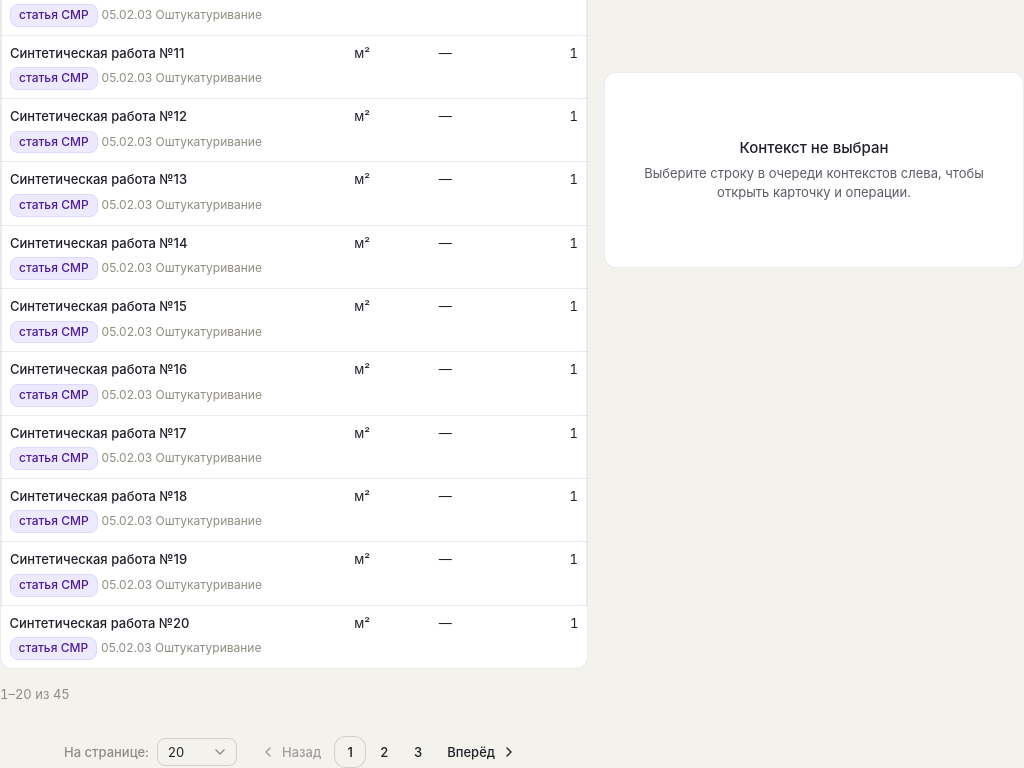
ContextsTab — фильтр «Семья» › поиск по названию («е» вместо «ё») находит семью; выбор уходит в запрос и возвращает на первую страницу
(page scrolled)
Click the button with aria-label "Следующая страница" at [482, 752], box [447, 744, 517, 760]
(page scrolled)
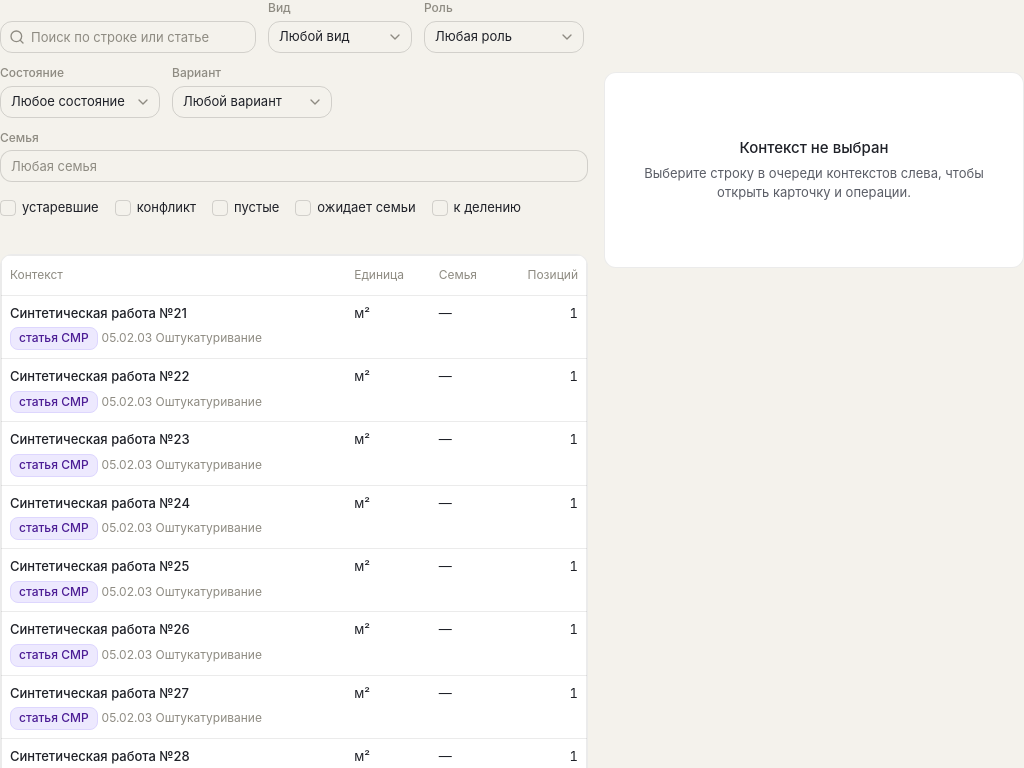
Click the button "Любая семья" at [54, 166], box [0, 150, 588, 182]
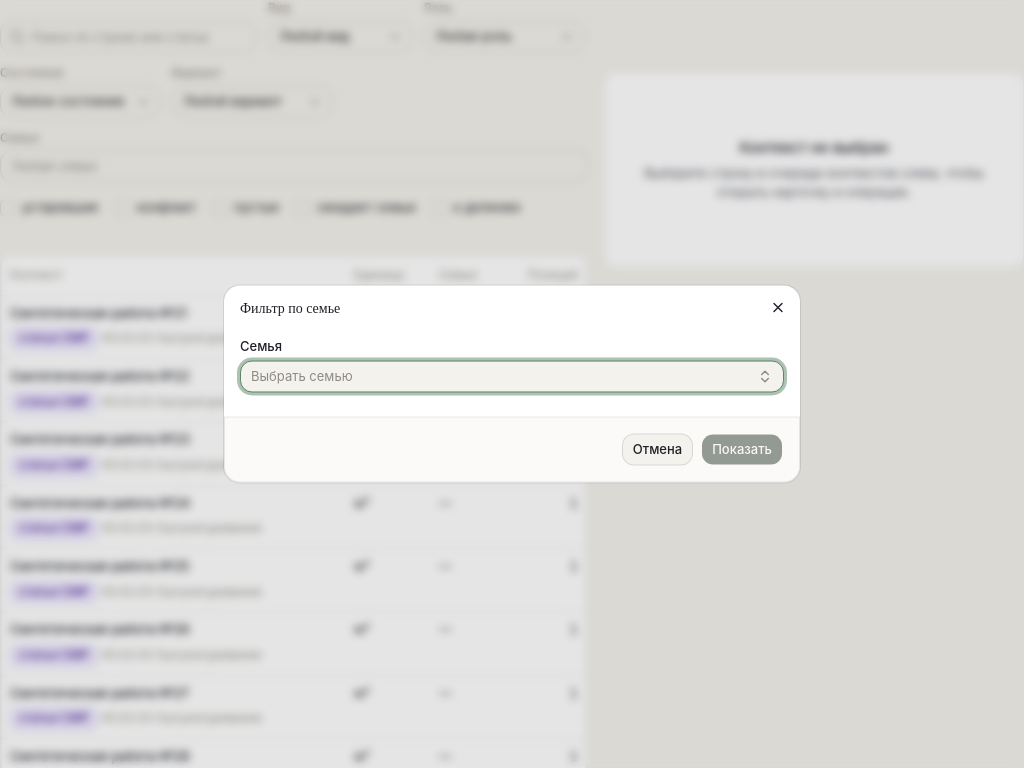
Click the dropdown named "Семья" at [302, 376], box [240, 360, 784, 392]
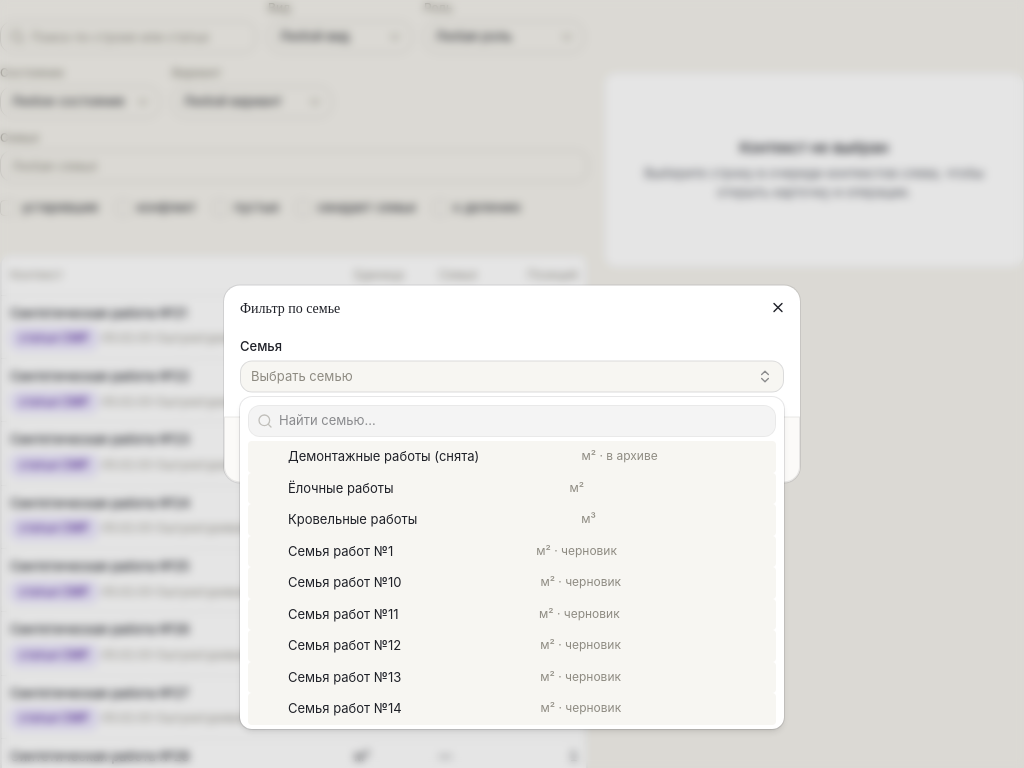
Type "елочные" into the dropdown with placeholder "Найти семью…" at [524, 421], box [273, 411, 775, 431]
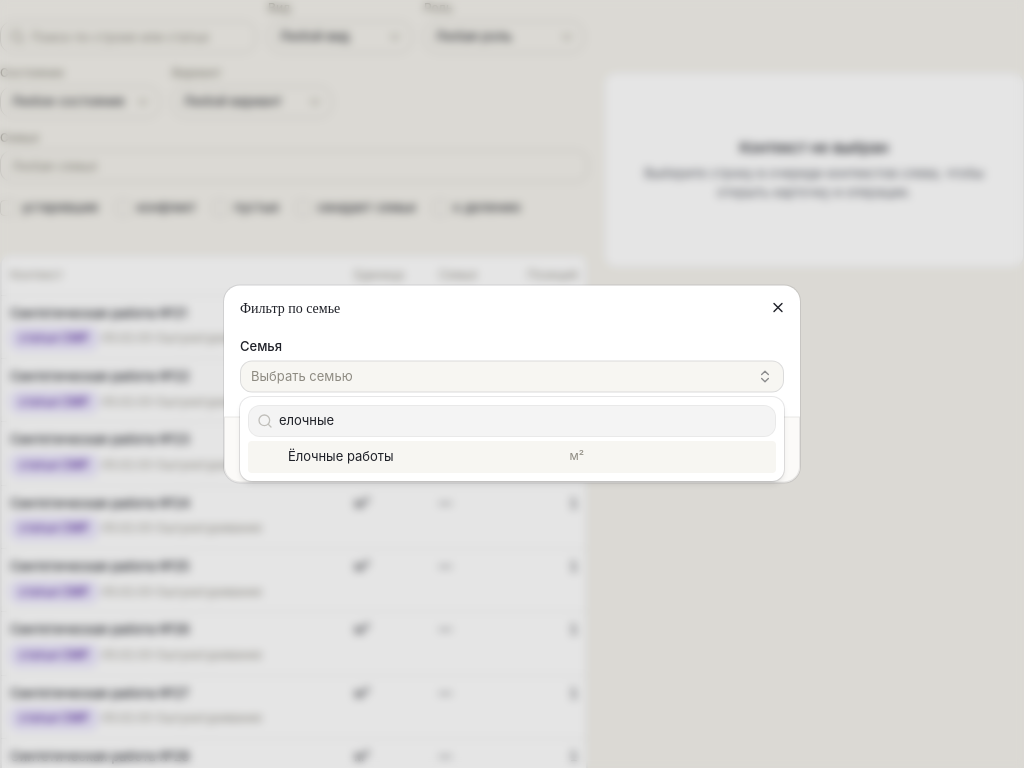
Expected: the option "Кровельные работы" is gone
Click the option "Ёлочные работы м²" at [341, 456], box [248, 441, 776, 472]
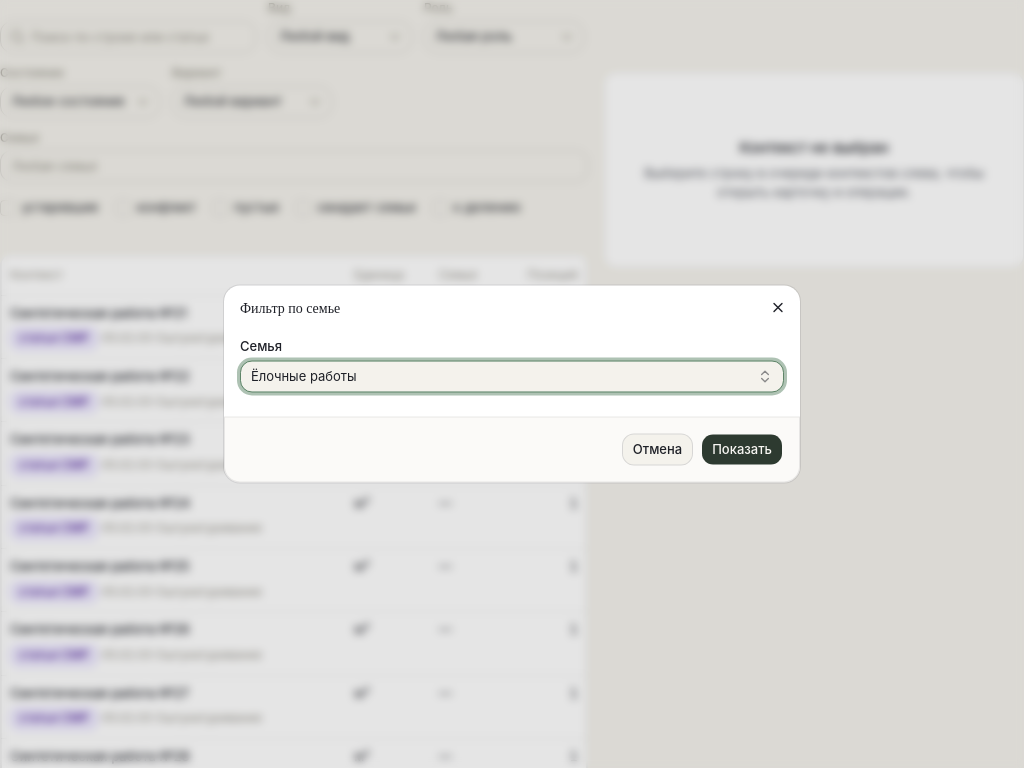
Click the button "Показать" at [742, 450], box [701, 434, 783, 466]
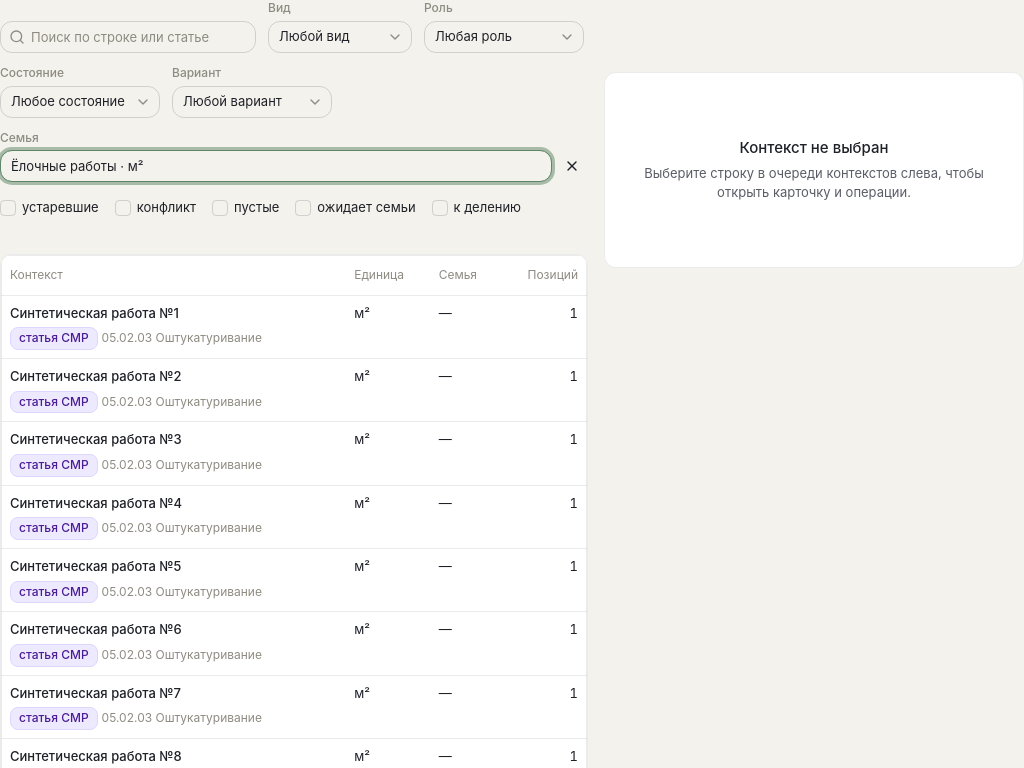
Expected: the button named "Семья" shows "Ёлочные работы", [0, 150, 552, 182]
